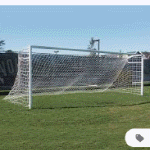goals: (4, 43, 146, 111)
